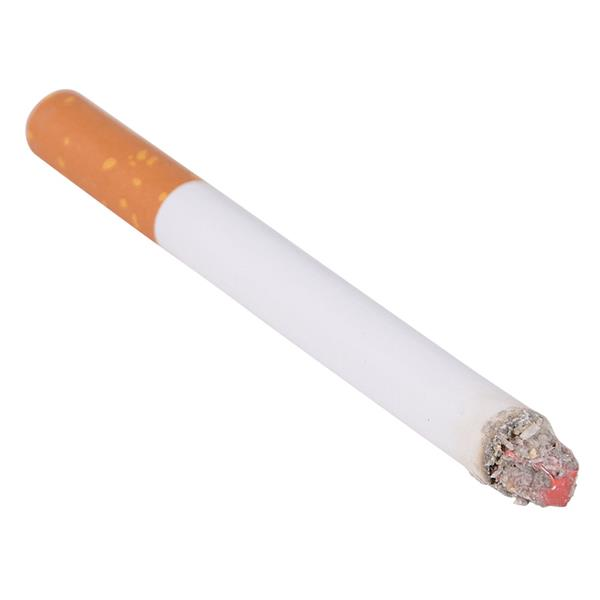cigarette: (17, 73, 583, 542)
